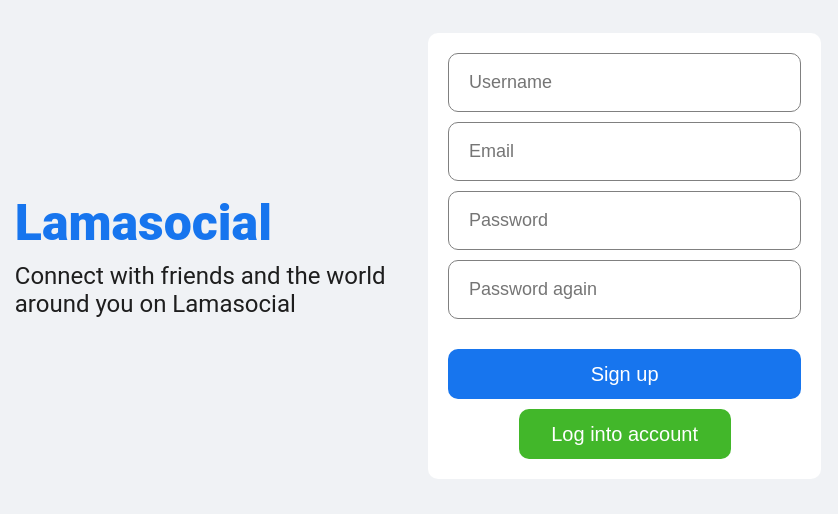
Test: Signup › Should show error message when username is invalid
Type "abc" into the field with placeholder "Username" at x=625, y=82, box [448, 53, 801, 112]
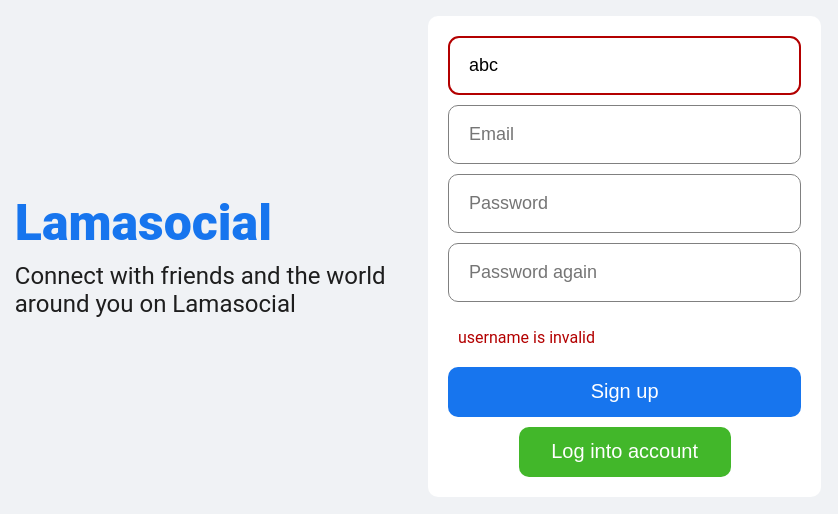
Result: the text "username is invalid" is shown at [458, 328, 595, 346]
